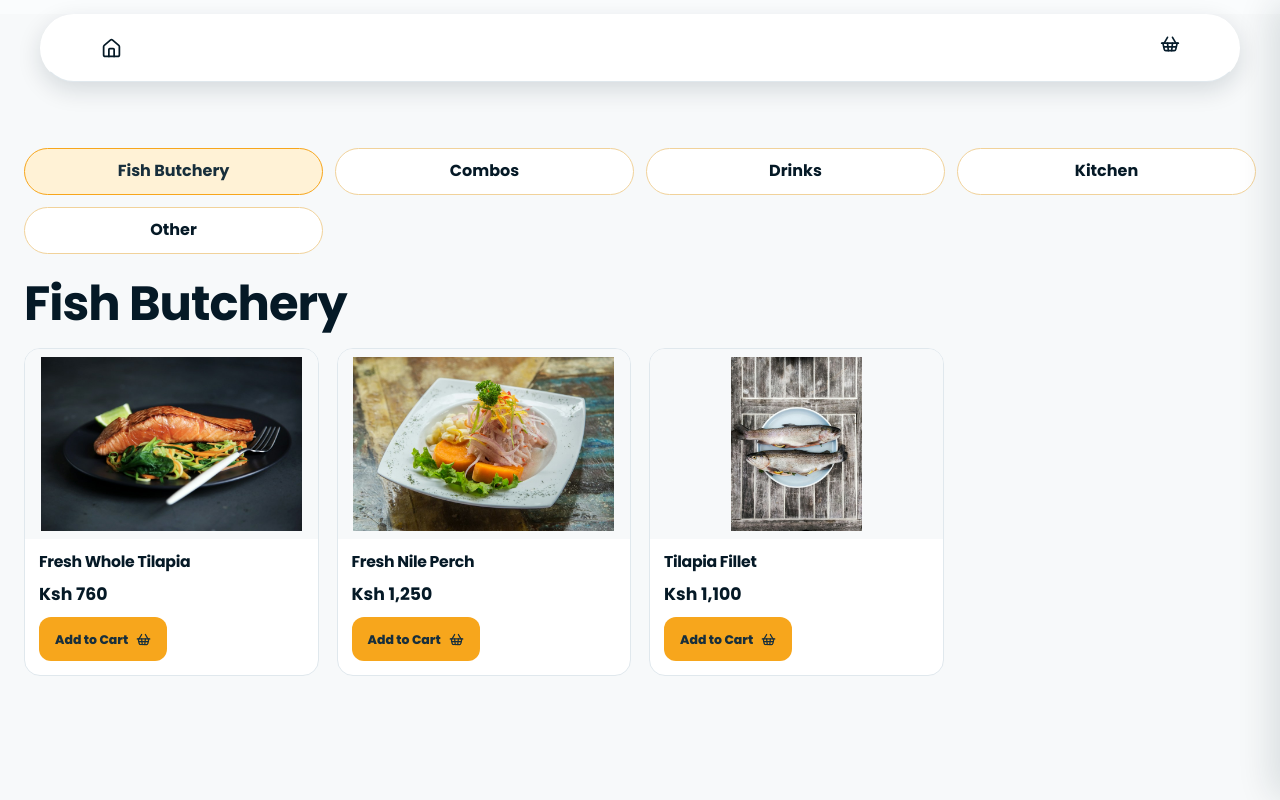
Scenario: Pazuri Fish storefront › opens the shared basket and checkout from a category dashboard
The image size is (1280, 800).
Click the button "Add to Cart" below "Ksh 760": (103, 639) [39, 617, 167, 661]
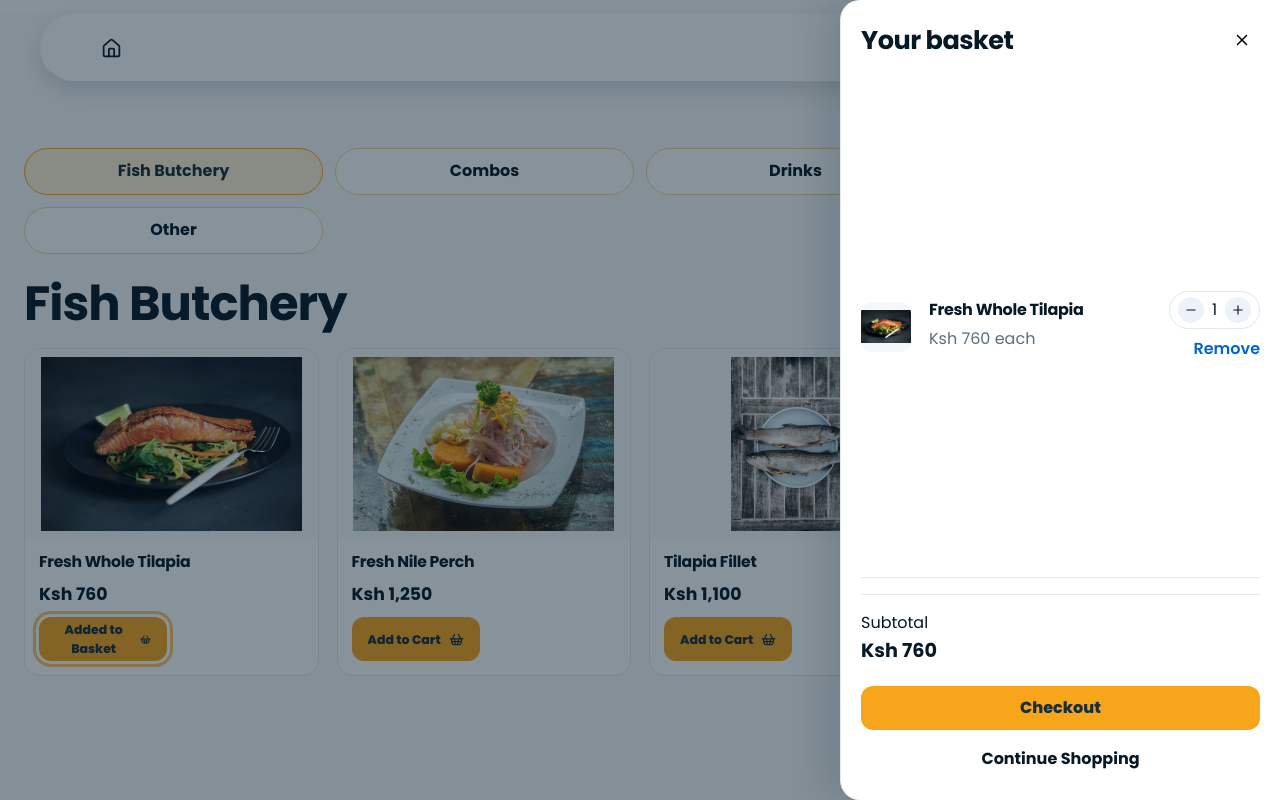
Expected: the heading "Your basket" is shown, [861, 26, 1014, 54]
Expected: the button named "Dismiss basket overlay" is shown
Expected: the heading "Fresh Whole Tilapia" is shown, [929, 298, 1084, 321]
Click the button "Checkout": (1060, 708) [861, 686, 1260, 730]
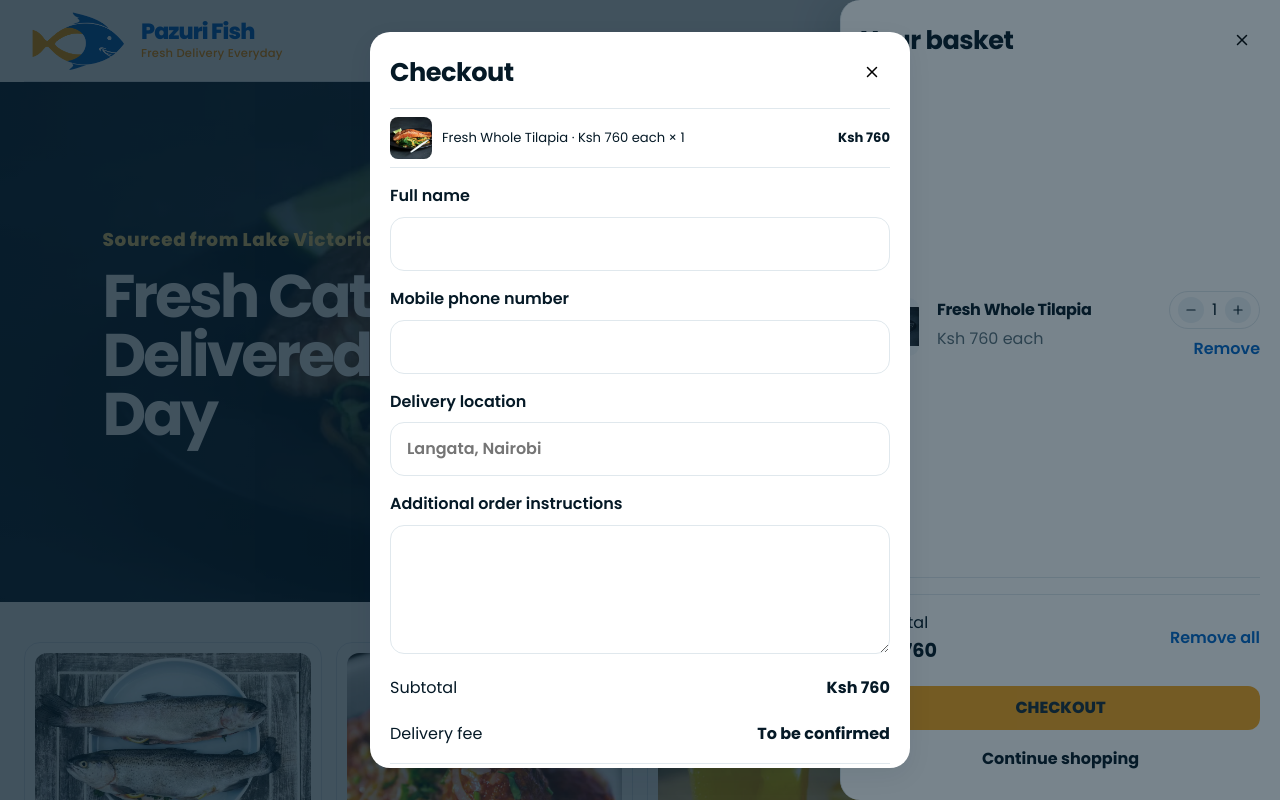
Expected: the heading "Checkout" is shown, [390, 58, 514, 86]
Expected: the text "Fresh Whole Tilapia · Ksh 760 each × 1" is shown, [442, 128, 685, 147]
Expected: the text "To be confirmed" is shown, [757, 722, 890, 747]
